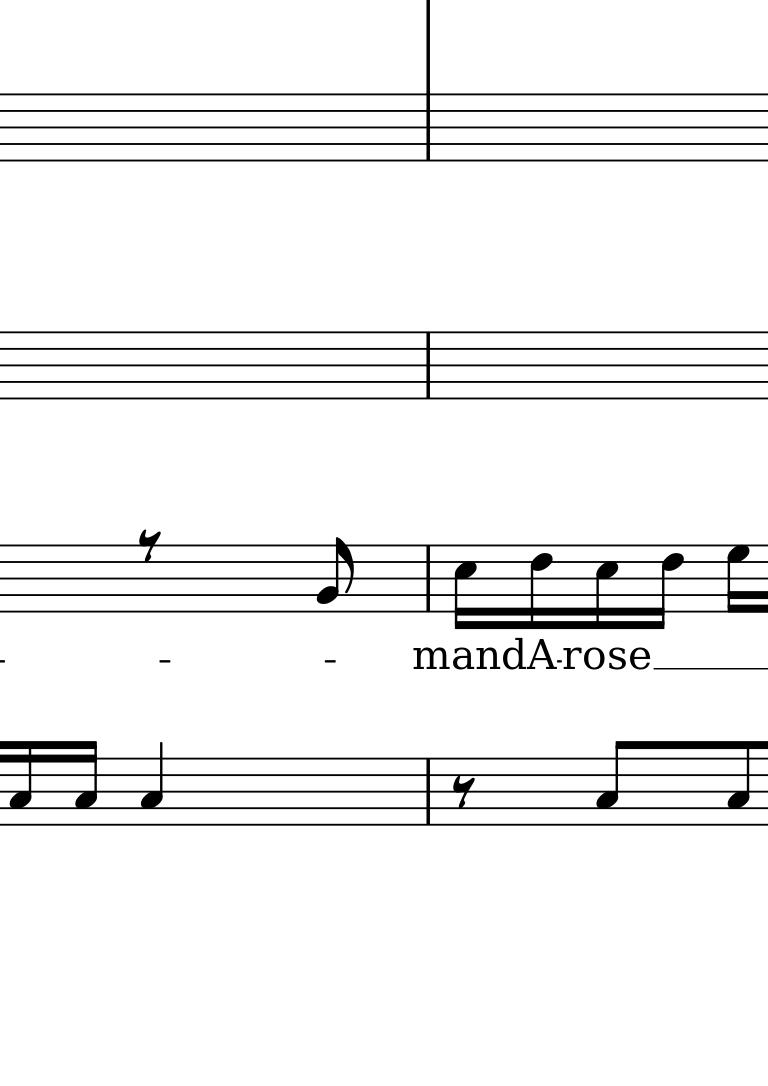16_3: (8, 738, 35, 827), (73, 738, 99, 828)
16_5: (451, 543, 477, 632), (594, 543, 620, 632)
16_6: (649, 542, 684, 631), (528, 541, 554, 631)
16_7: (725, 543, 750, 615)
4_3: (139, 742, 166, 827)
8_2: (316, 536, 354, 614)
8_3: (594, 738, 629, 828), (725, 739, 753, 828)
Rests8: (450, 774, 477, 810), (137, 528, 163, 563)
Single_barline: (419, 93, 437, 160), (419, 332, 437, 399), (419, 546, 437, 612), (419, 758, 436, 824)
